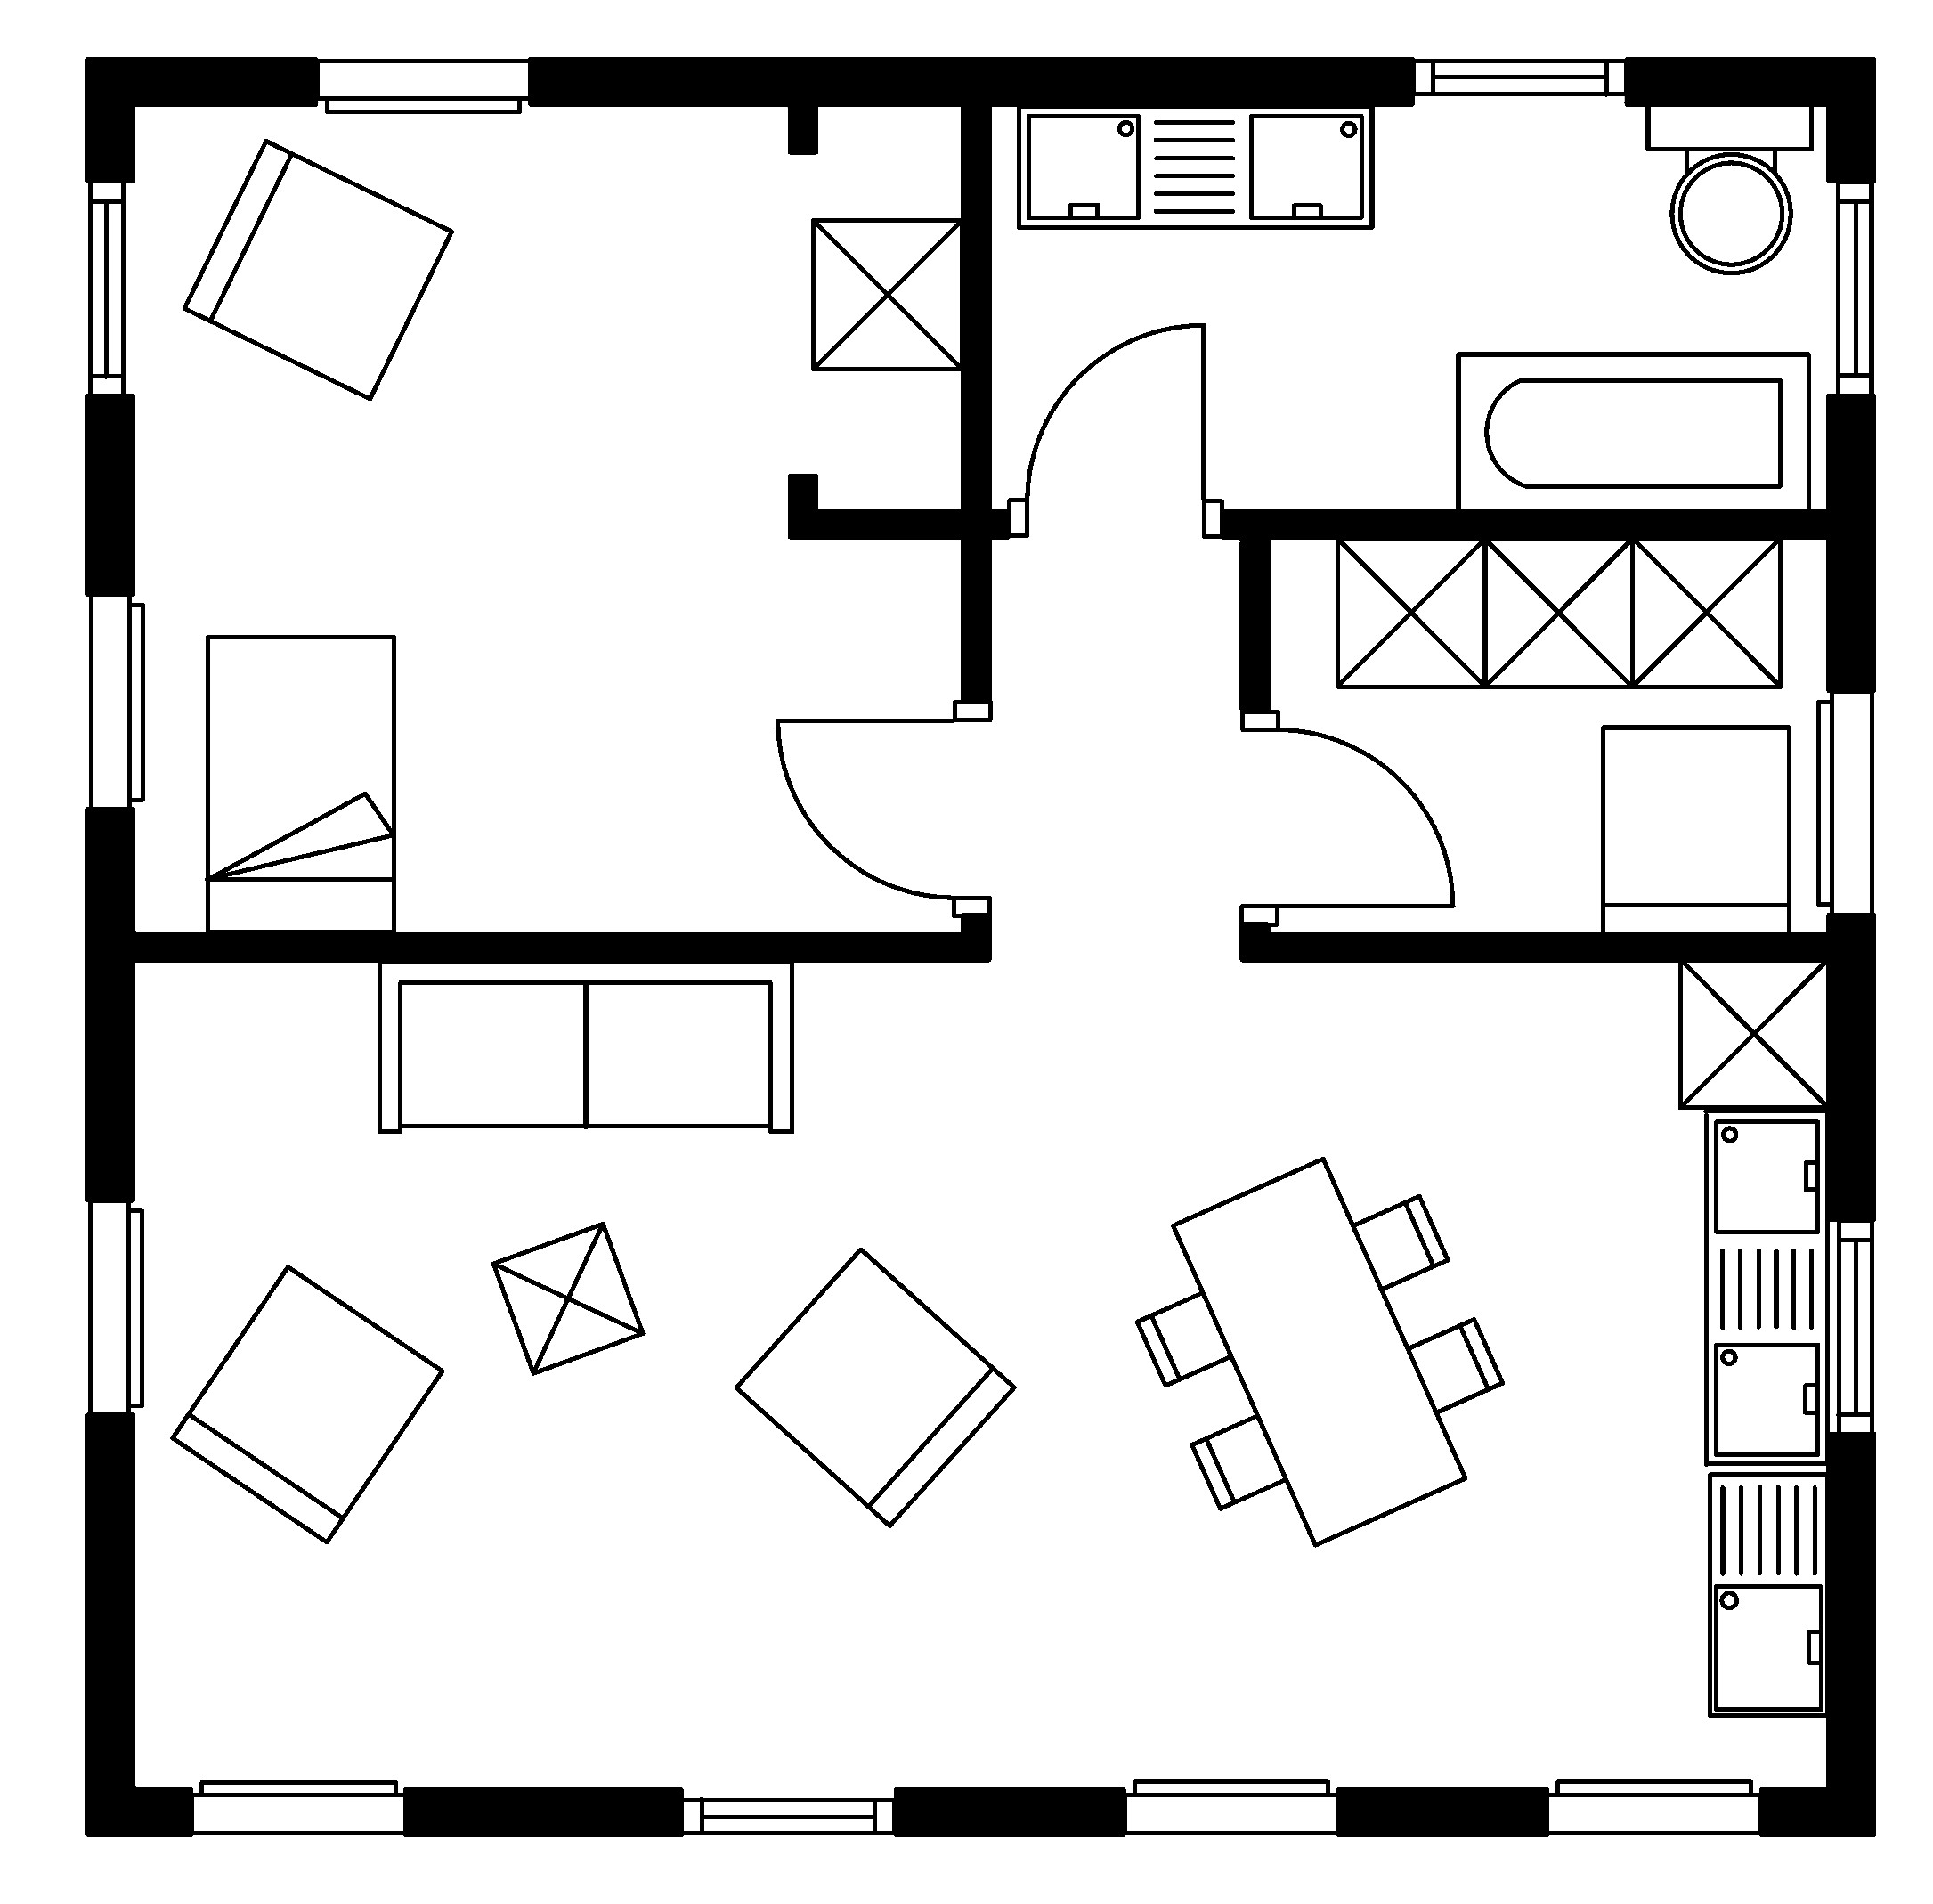bed: (202, 633, 397, 935)
coffee_table: (809, 216, 966, 371), (488, 1221, 645, 1376), (1480, 534, 1635, 689), (1628, 534, 1783, 689), (1333, 534, 1489, 689), (1675, 955, 1830, 1111)
dining_table: (1133, 1154, 1504, 1548)
large_sink: (1644, 101, 1814, 274)
large_sofa: (375, 959, 795, 1135)
sink: (1706, 1470, 1830, 1719)
small_sofa: (732, 1245, 1016, 1529), (169, 1262, 444, 1545), (180, 138, 455, 401), (1598, 724, 1792, 936)
tub: (1454, 350, 1811, 513)
twin_sink: (1014, 101, 1375, 230), (1701, 1107, 1830, 1468)
